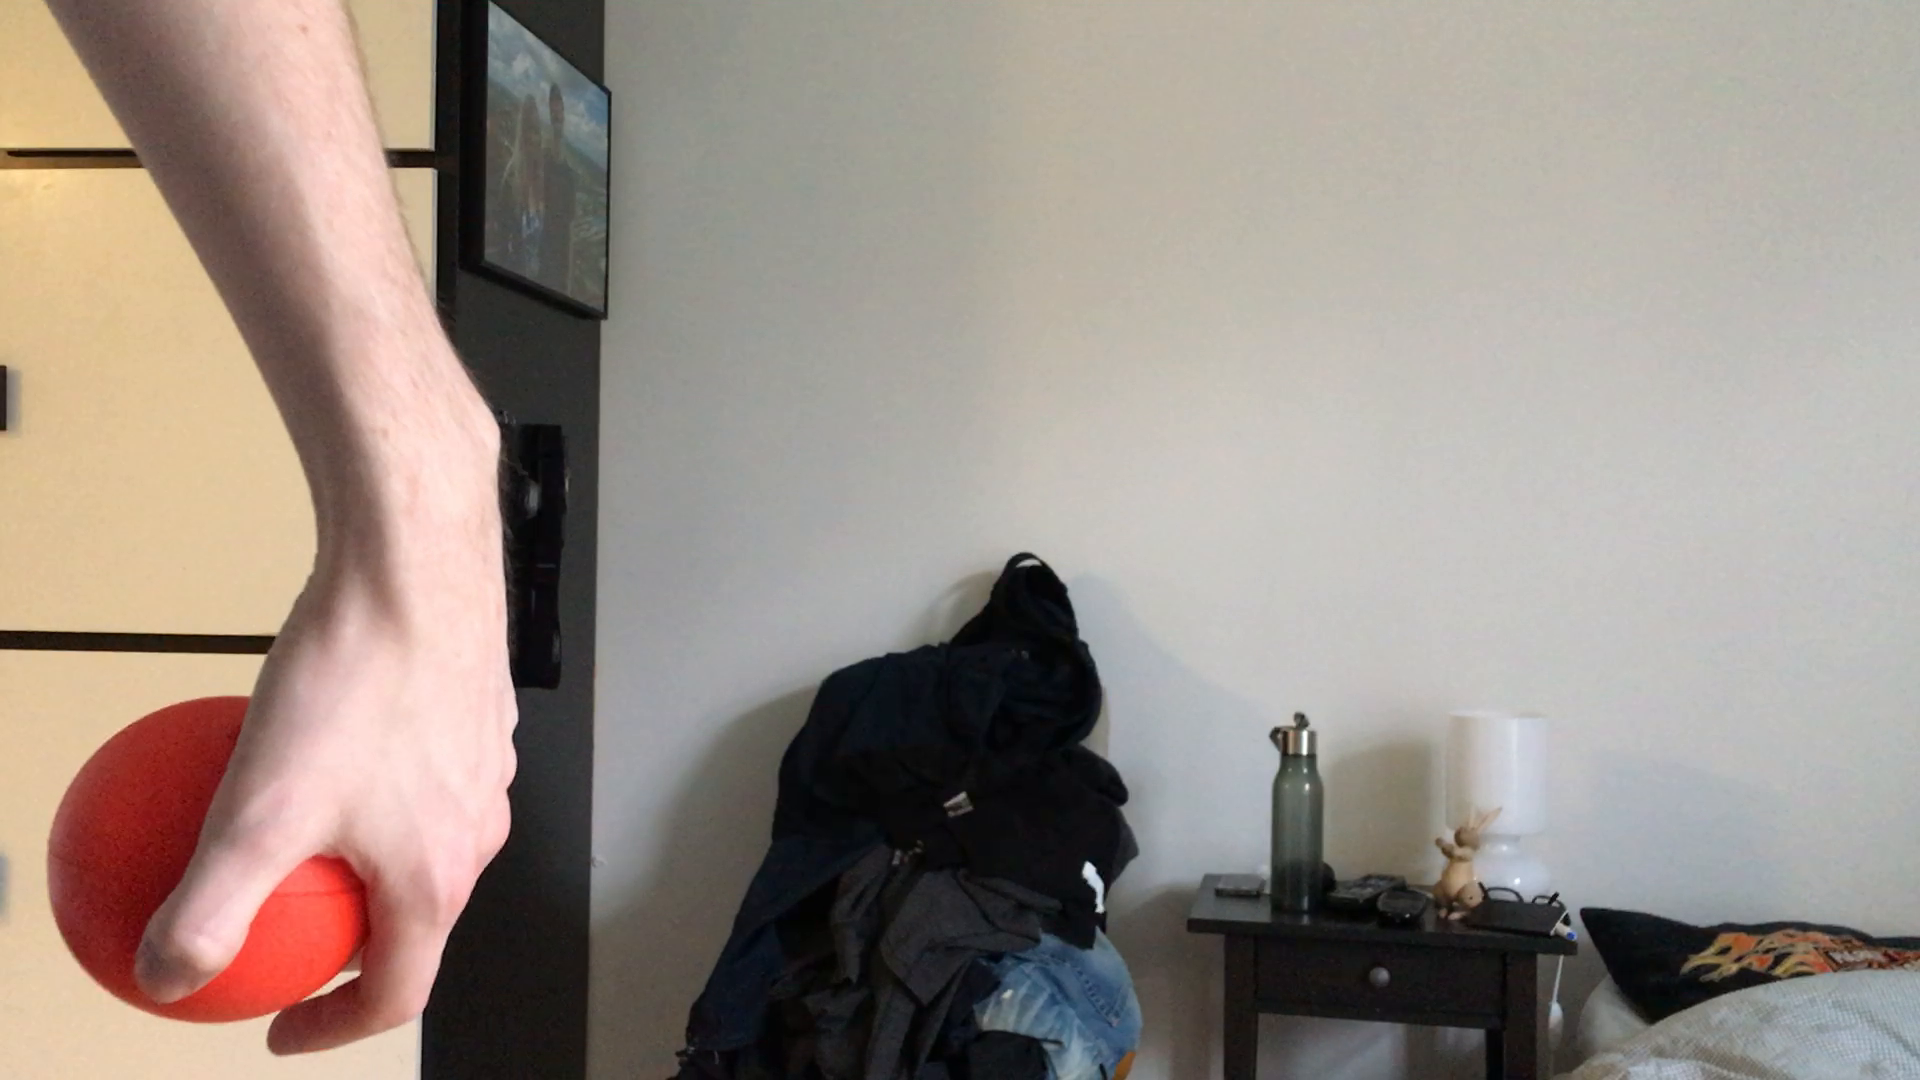Ball: (51, 694, 390, 1030)
